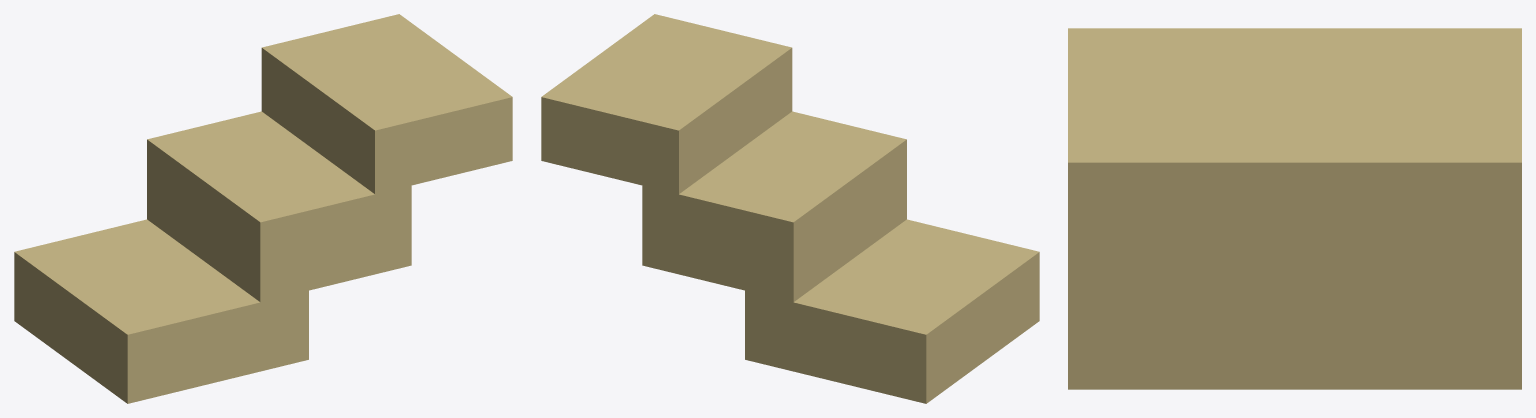
The model's file is stairs1.fbx.
The picture shows the model from 3 angles, left to right: view 1: azimuth 30°, elevation 25°; view 2: azimuth 150°, elevation 25°; view 3: azimuth 270°, elevation 25°; orthographic projection. The views are drawn at different scales.
Parts seen in each view (by area): view 1: Cube.001; view 2: Cube.001; view 3: Cube.001.
Part boxes in pixels (x1,y1,x2,y2): Cube.001: (14, 14, 512, 403); Cube.001: (541, 14, 1039, 403); Cube.001: (1068, 28, 1521, 389).
Bounding box in the file's own units: 14105 × 7454 × 7195.
